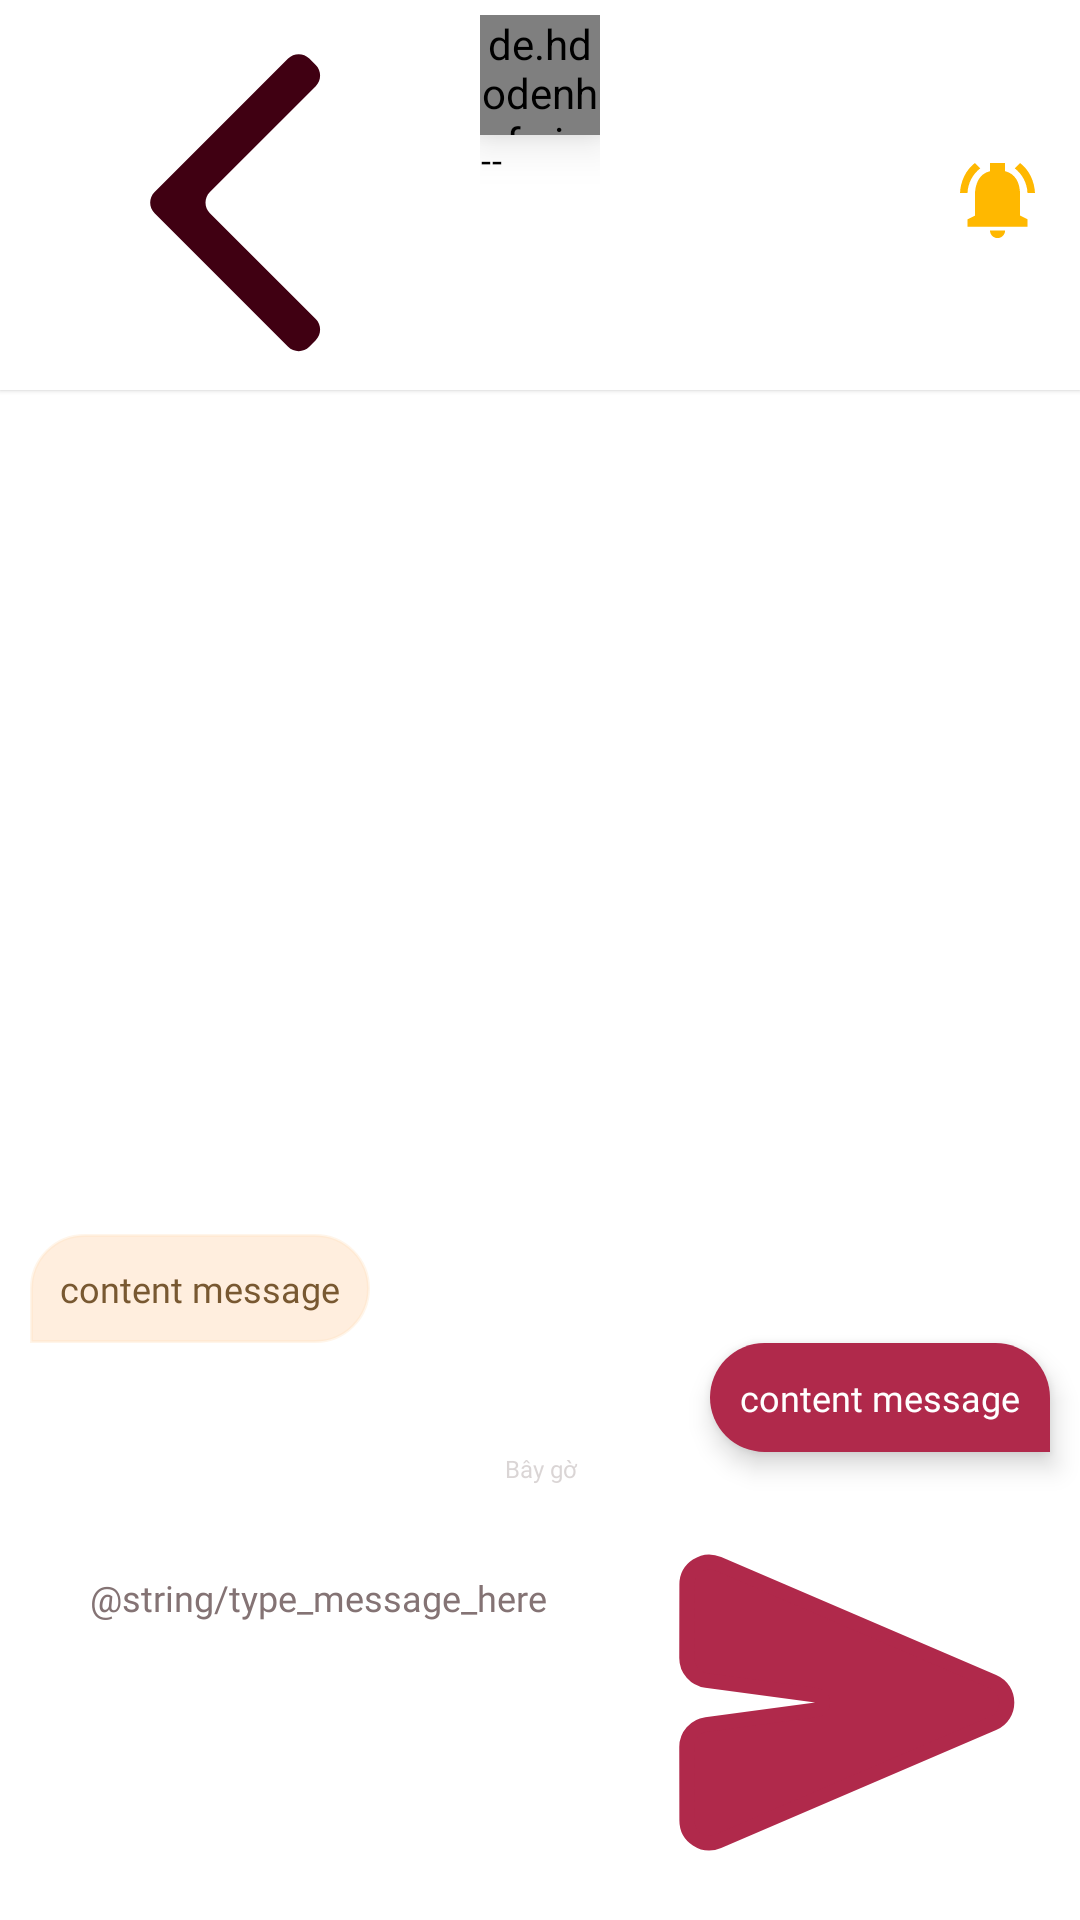

Screen size 1080px×1920px. Icon name, then its box in pixels as (x1, y1, x2, y2):
Gửi: (679, 1554, 1015, 1851)
Thông báo: (960, 163, 1035, 238)
Trở về: (150, 54, 320, 352)
